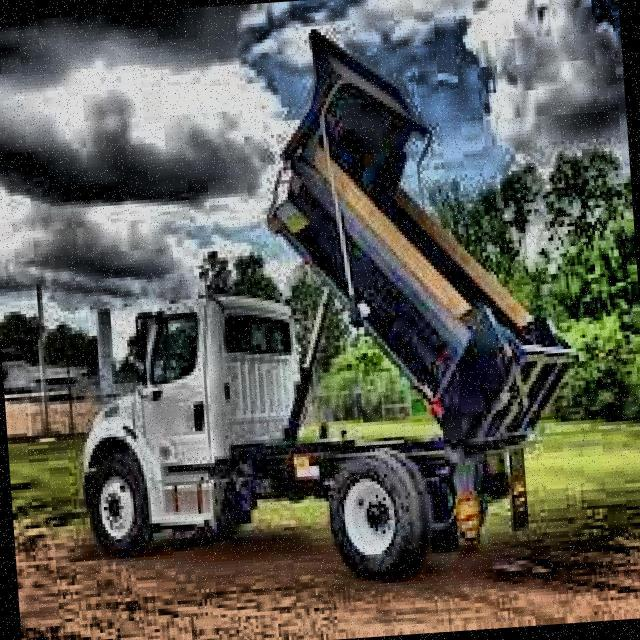dump_truck: (46, 11, 595, 604)
